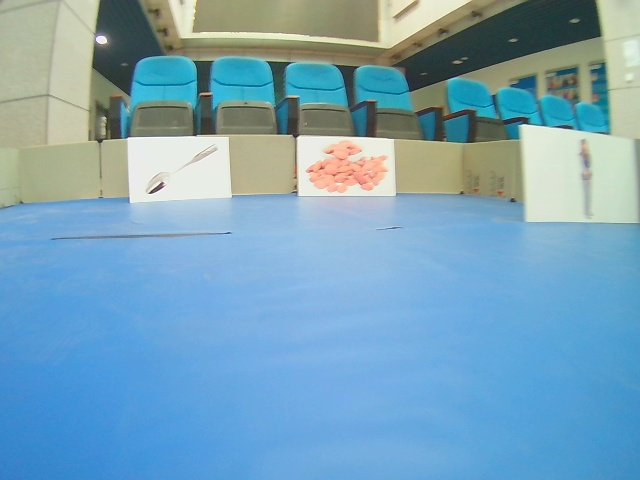dish: (129, 138, 230, 206)
food: (297, 135, 398, 200)
